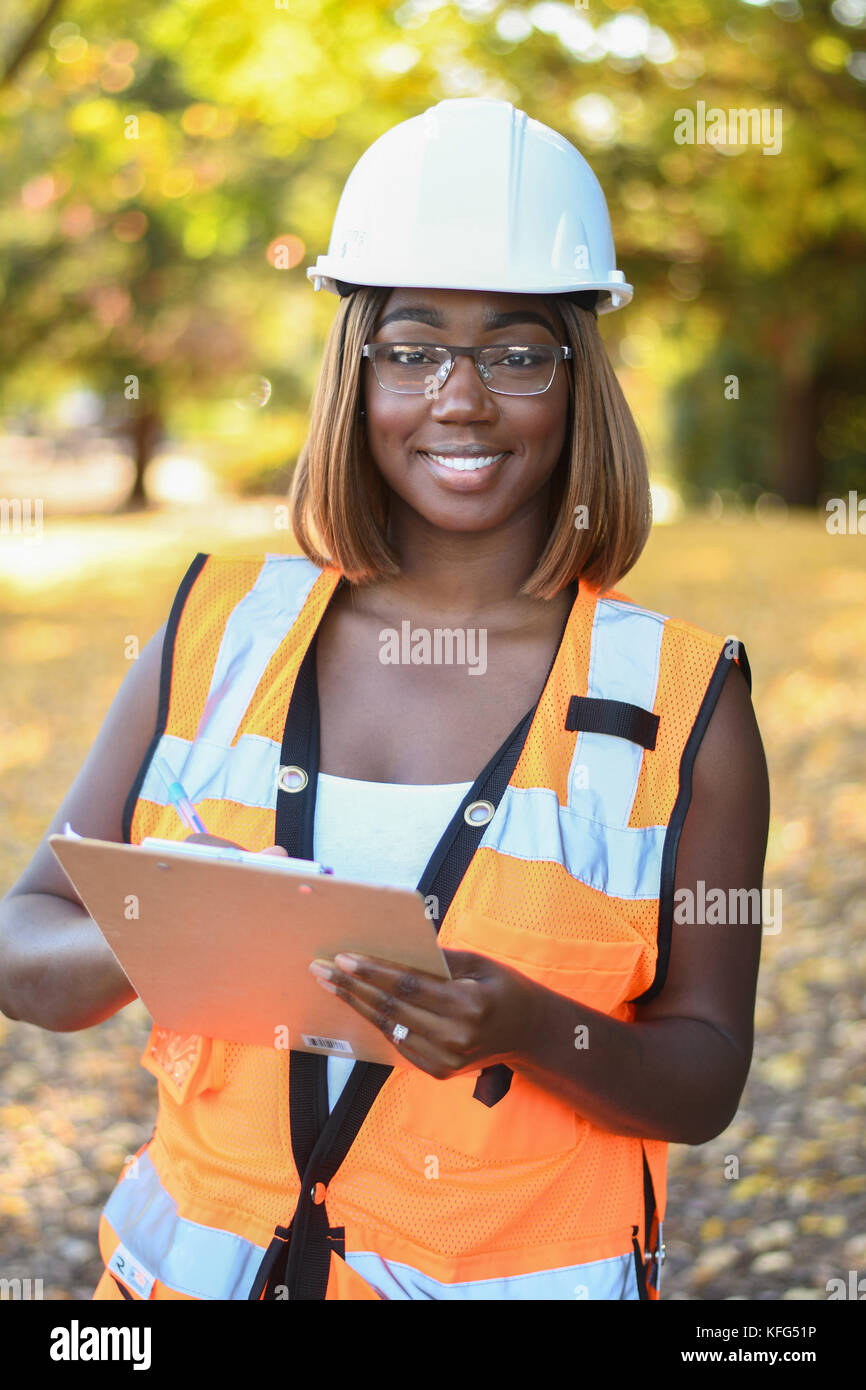hat: (306, 91, 635, 311)
jacket: (110, 521, 761, 1304)
